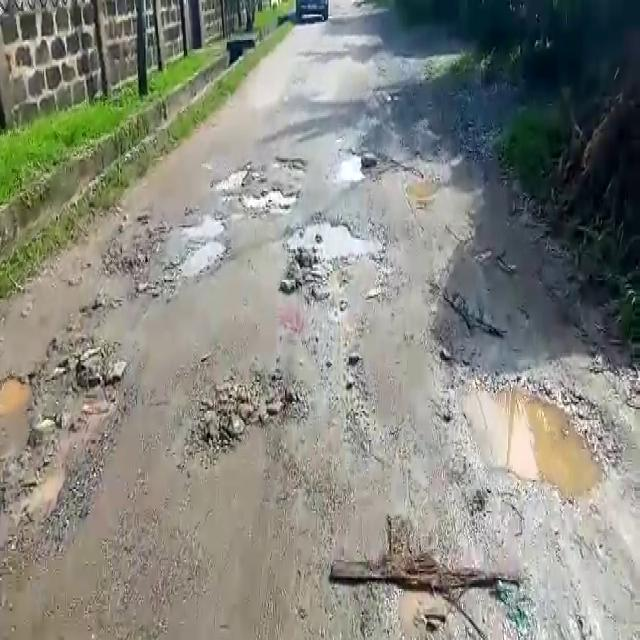Pothole: (453, 370, 618, 502), (199, 365, 306, 450), (297, 216, 386, 257), (179, 242, 231, 278), (0, 371, 35, 418), (451, 153, 490, 194), (238, 188, 298, 214), (181, 212, 227, 243), (403, 170, 445, 203), (338, 152, 369, 182), (271, 153, 309, 171)
